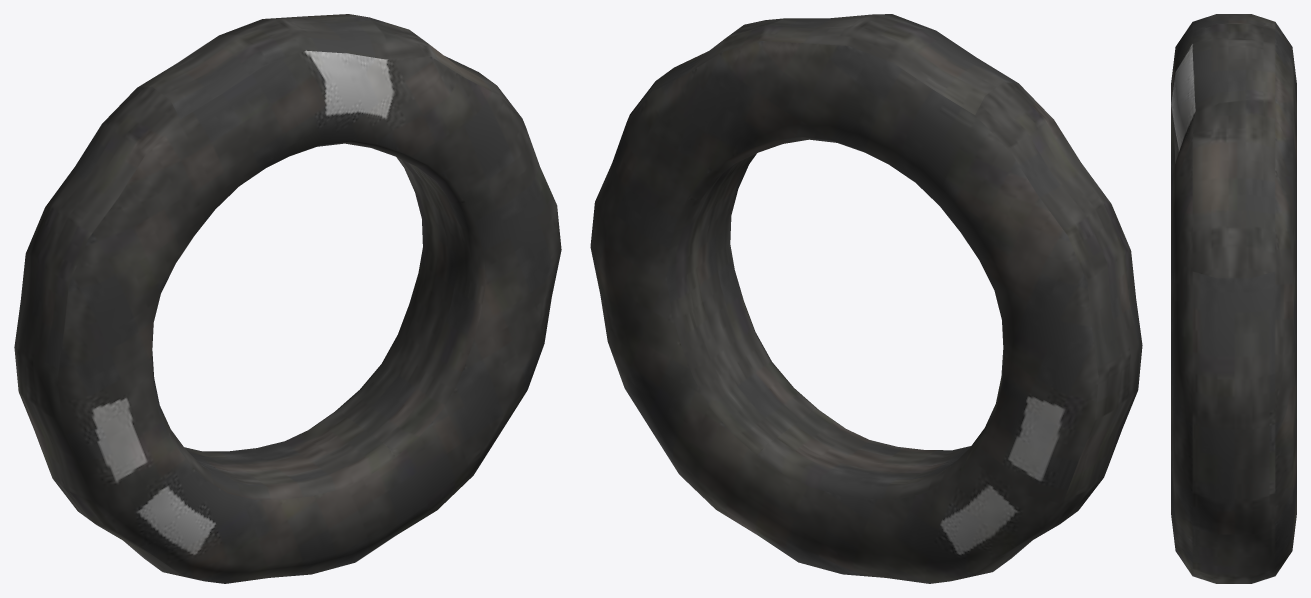
Rendered from JV15_worn_tyres_v1.glb.
3 views of the same model, side by side, from view 1: azimuth 30°, elevation 25°; view 2: azimuth 150°, elevation 25°; view 3: azimuth 270°, elevation 25° (orthographic). The views are drawn at different scales.
Visible parts, largest first — view 1: Upright worn tyre; view 2: Upright worn tyre; view 3: Upright worn tyre.
Part boxes in pixels (bbox=[...]): Upright worn tyre: bbox=[14, 14, 561, 583]; Upright worn tyre: bbox=[590, 14, 1142, 583]; Upright worn tyre: bbox=[1171, 14, 1296, 583].
Size of the model in its own units: 0.7 by 0.6888 by 0.154.
3 materials, 3 textured.
